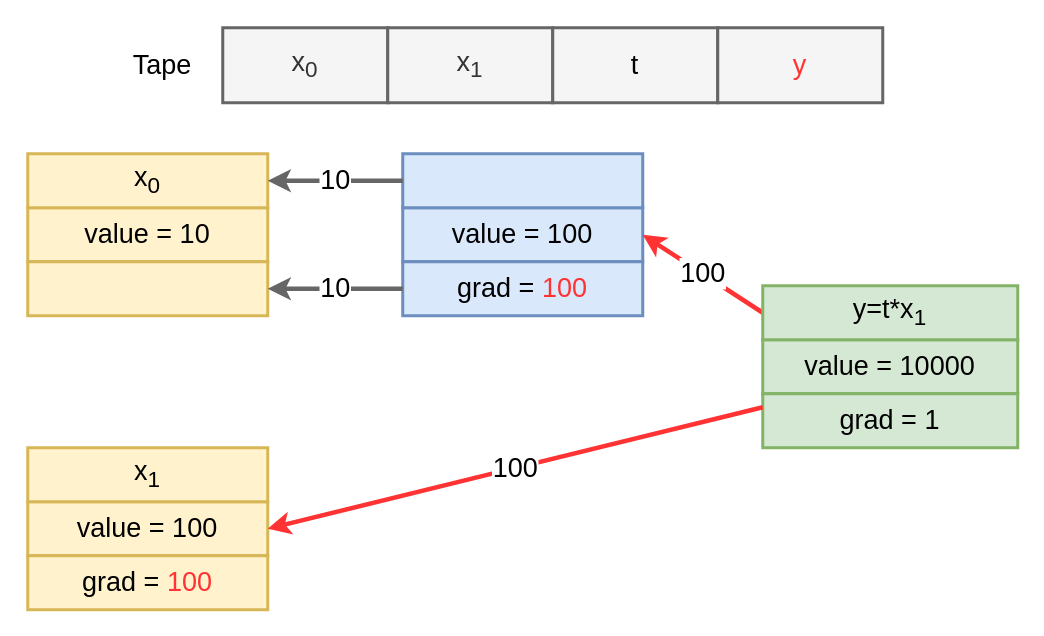
Image size: 1044x636. Some labels were removed from this diagram. The centre of each missing label's shape, as x and y in pixels:
"grad = 0" goes at point (147, 288).
"t=x 0 *x 0" goes at point (522, 180).
